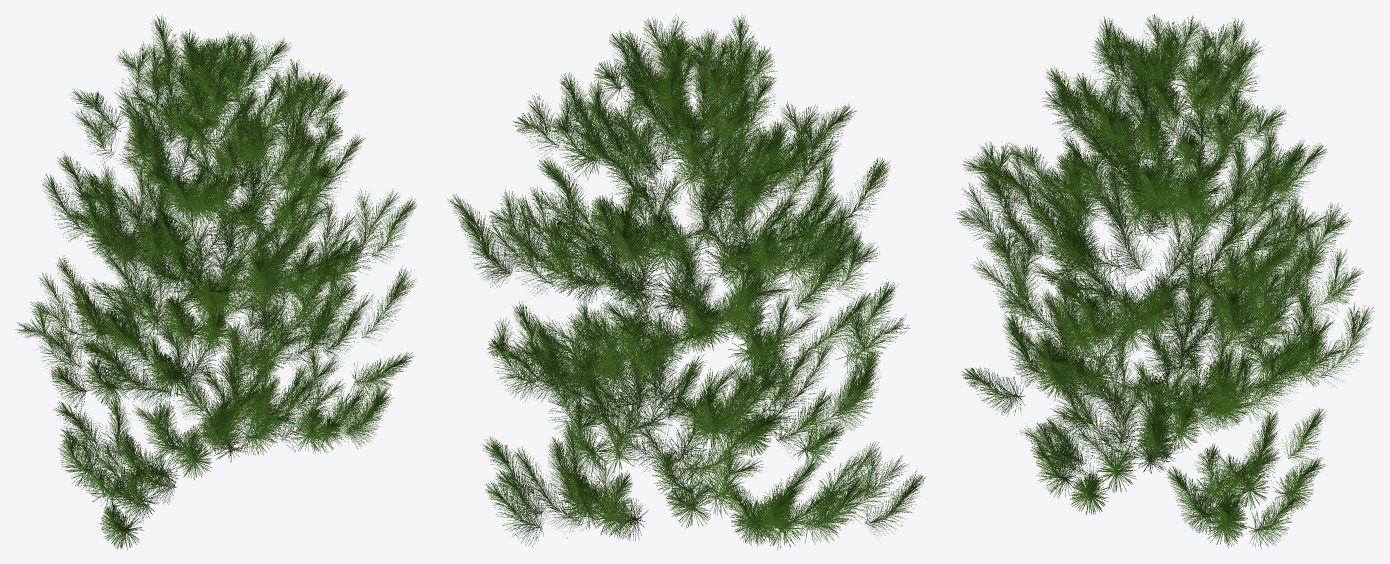
The model's file is Pine Tree 1.fbx.
3 renders of one model, left to right at view 1: azimuth 30°, elevation 25°; view 2: azimuth 150°, elevation 25°; view 3: azimuth 270°, elevation 25°, orthographic. The views are drawn at different scales.
Visible parts, largest first — view 1: leaves; view 2: leaves; view 3: leaves.
Part boxes in pixels (x1,y1,x2,y2): leaves: [14, 14, 416, 549]; leaves: [447, 14, 925, 549]; leaves: [956, 14, 1374, 549].
Bounding box in the file's own units: 5499 × 6345 × 5058.
